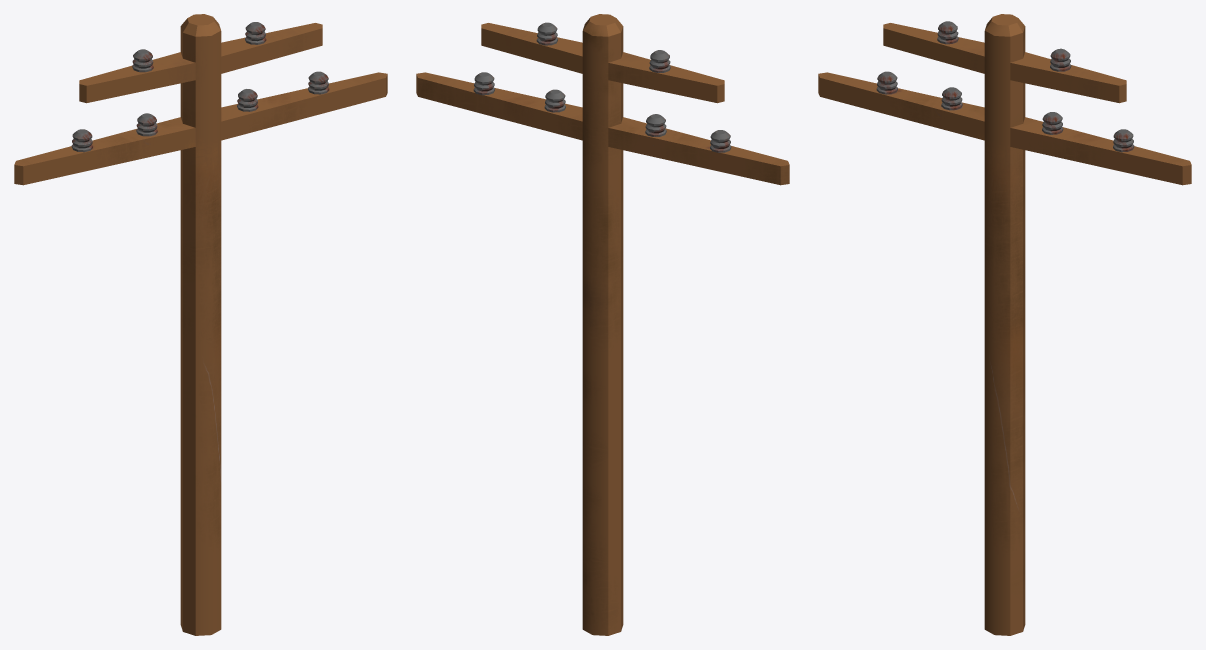
Rendered from asset.gltf.
3 views of the same model, side by side, from view 1: azimuth 30°, elevation 25°; view 2: azimuth 150°, elevation 25°; view 3: azimuth 330°, elevation 25° (orthographic).
Visible parts, largest first — view 1: pCylinder1; view 2: pCylinder1; view 3: pCylinder1.
Part boxes in pixels (x1=…): pCylinder1: x1=14, y1=14, x2=387, y2=635; pCylinder1: x1=416, y1=14, x2=789, y2=635; pCylinder1: x1=818, y1=14, x2=1191, y2=635.
Bounding box in the file's own units: 9.79 × 15.22 × 0.9481.
1 material, 1 textured.
